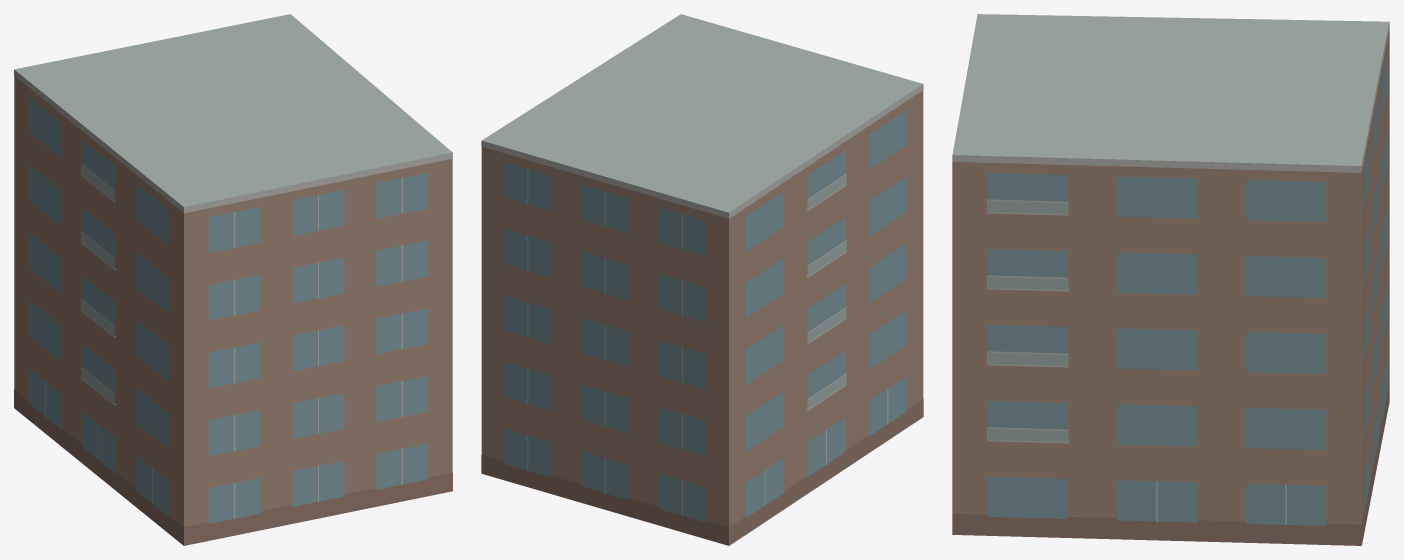
File: survey-upis-33031058.glb
3 views of the same model, side by side, from view 1: azimuth 30°, elevation 25°; view 2: azimuth 150°, elevation 25°; view 3: azimuth 270°, elevation 25° (orthographic). The views are drawn at different scales.
Parts seen in each view (by area): view 1: survey-upis-33031058.tmp; view 2: survey-upis-33031058.tmp; view 3: survey-upis-33031058.tmp.
Part boxes in pixels (<box>): survey-upis-33031058.tmp: <box>14,14,452,545</box>; survey-upis-33031058.tmp: <box>481,14,923,545</box>; survey-upis-33031058.tmp: <box>952,14,1389,545</box>.
Bounding box in the file's own units: 11.61 × 13.5 × 14.09.
